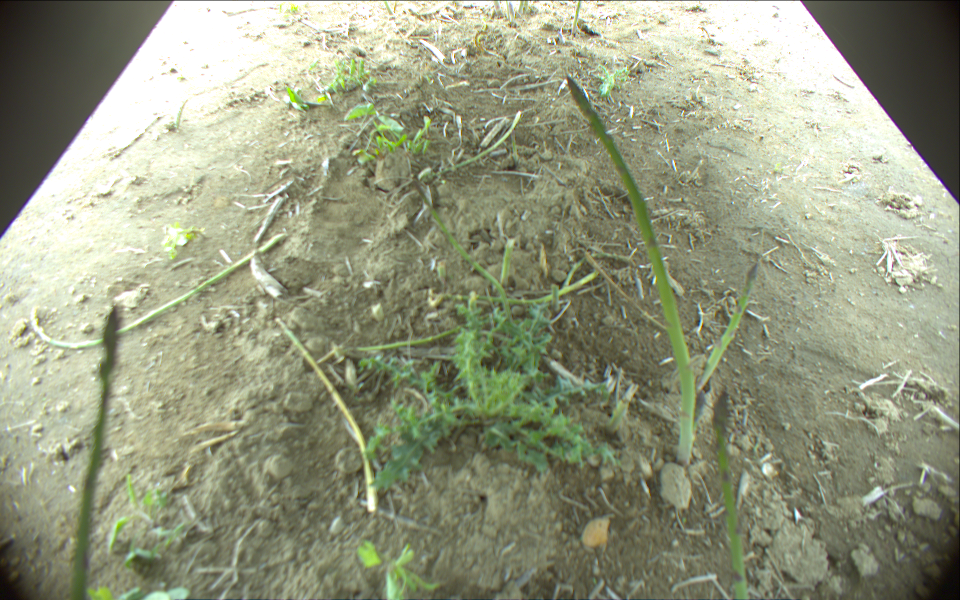aspa: (565, 77, 697, 467), (31, 230, 289, 349), (275, 317, 381, 516), (407, 177, 512, 319), (69, 305, 119, 600), (691, 263, 760, 400), (710, 392, 754, 600), (420, 111, 523, 184), (436, 272, 597, 303), (571, 1, 584, 34), (505, 1, 517, 22), (516, 1, 531, 17), (493, 1, 503, 16)
